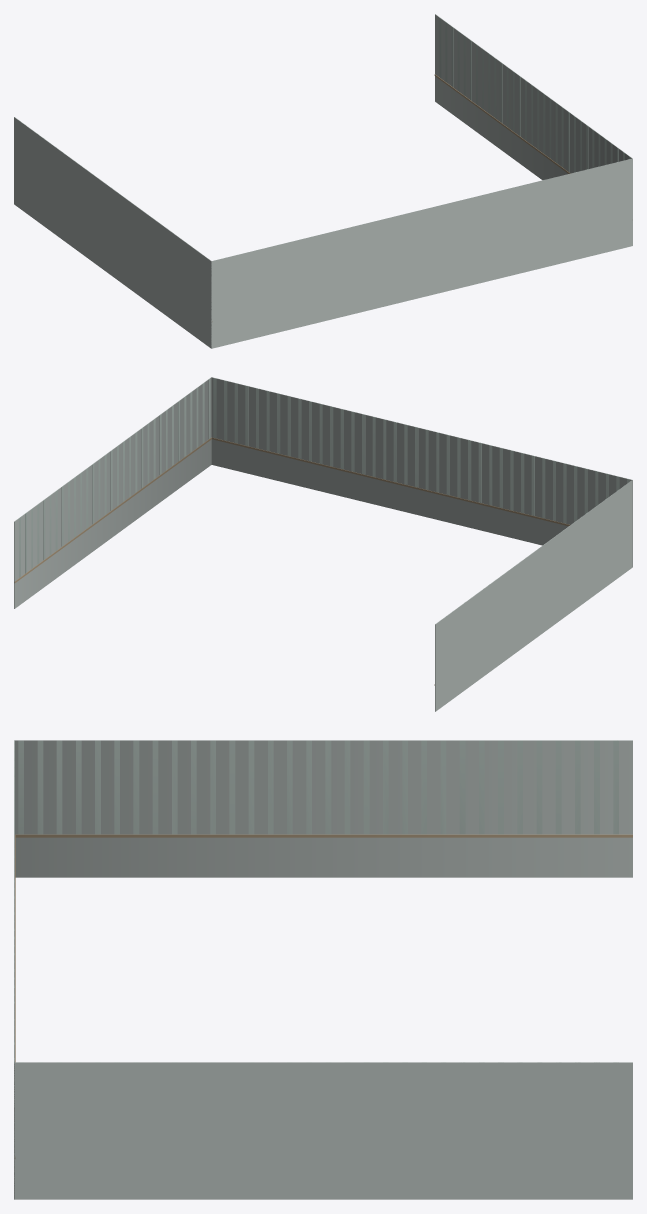
File: home_wallpaper_s3__mint.glb
The picture shows the model from 3 angles, top to bottom: view 1: azimuth 30°, elevation 25°; view 2: azimuth 150°, elevation 25°; view 3: azimuth 270°, elevation 25°; orthographic projection. The views are drawn at different scales.
Bounding box in the file's own units: 15.9 × 3.15 × 12.9.
